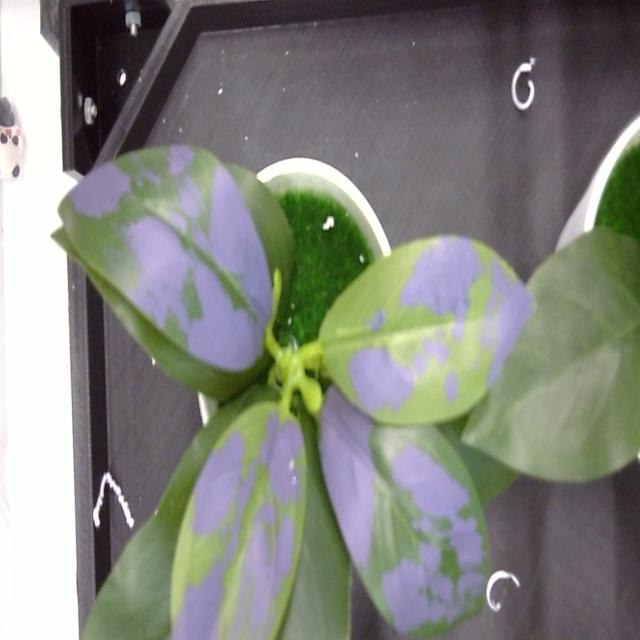Green: (461, 226, 640, 481), (82, 410, 239, 639), (295, 423, 350, 639)
Purple: (53, 148, 292, 397), (319, 387, 488, 636), (318, 236, 532, 423), (172, 400, 307, 639)
